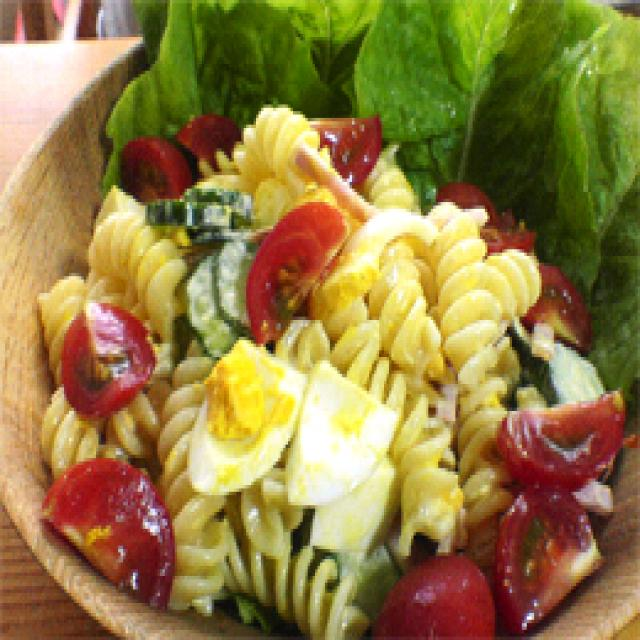蔬菜料理: (0, 0, 638, 640)
